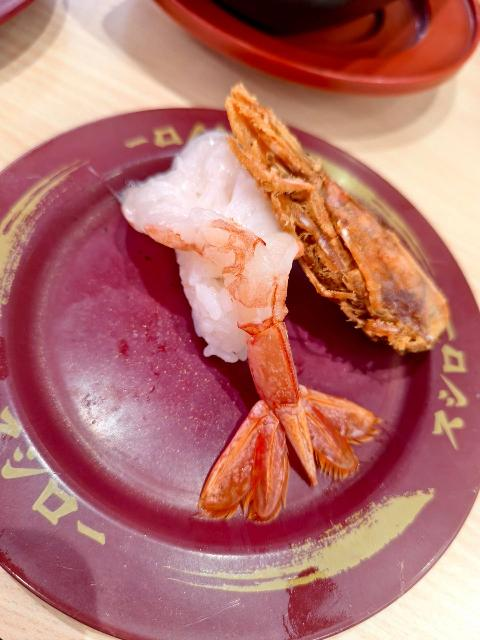janred: (0, 106, 480, 609), (140, 0, 480, 134)
